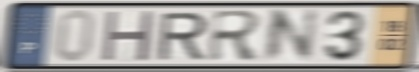0: (52, 8, 100, 64)
3: (321, 9, 367, 64)
H: (100, 9, 158, 64)
N: (259, 7, 321, 65)
R: (206, 9, 264, 64), (155, 10, 210, 62)
